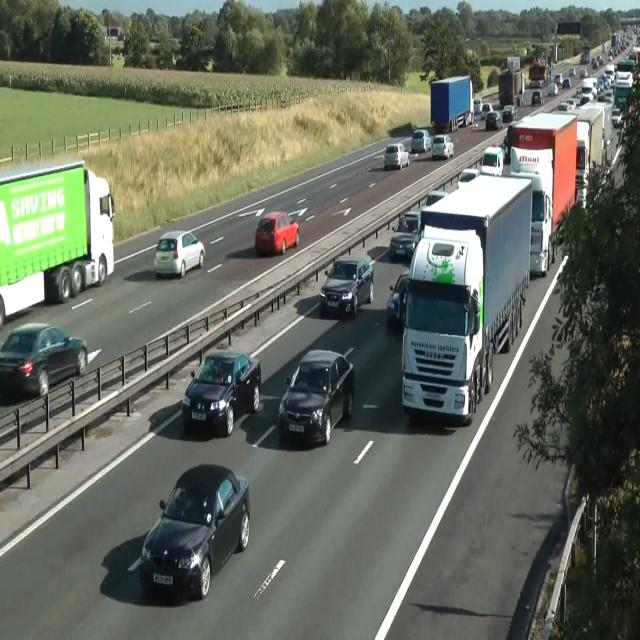bus: (140, 462, 250, 600), (278, 348, 354, 446), (0, 322, 88, 400), (153, 230, 205, 278), (254, 210, 300, 256), (389, 209, 421, 261), (386, 270, 410, 329), (389, 232, 417, 261), (383, 142, 409, 170), (480, 146, 504, 176), (394, 210, 421, 234), (431, 134, 453, 160), (411, 129, 432, 153), (457, 167, 479, 189), (424, 189, 448, 209), (485, 110, 503, 130), (611, 107, 623, 127), (502, 104, 514, 122), (480, 102, 492, 120), (473, 98, 483, 115), (532, 90, 542, 106), (548, 82, 558, 96), (565, 98, 576, 110), (562, 77, 570, 88), (568, 66, 576, 76), (579, 68, 587, 78), (501, 59, 507, 70)
jeep: (181, 346, 261, 436), (318, 255, 374, 317)
minibus: (401, 172, 533, 426), (0, 159, 114, 329), (502, 111, 578, 276), (479, 145, 555, 276), (549, 99, 617, 207), (430, 74, 474, 132), (498, 69, 524, 107), (528, 57, 551, 87)
